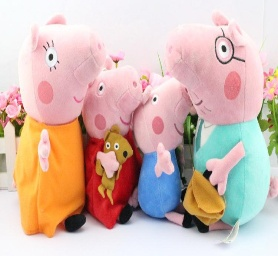Peppa: (80, 64, 143, 228)
